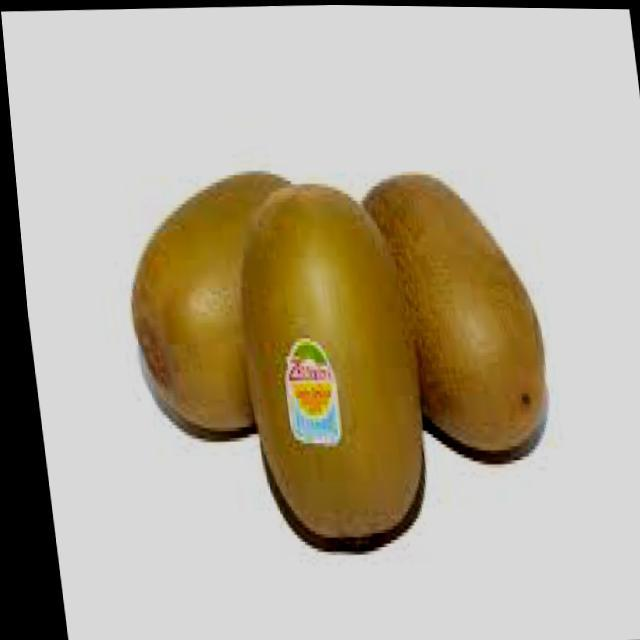kiwi: (220, 173, 429, 551), (342, 163, 548, 461), (112, 165, 329, 439)
